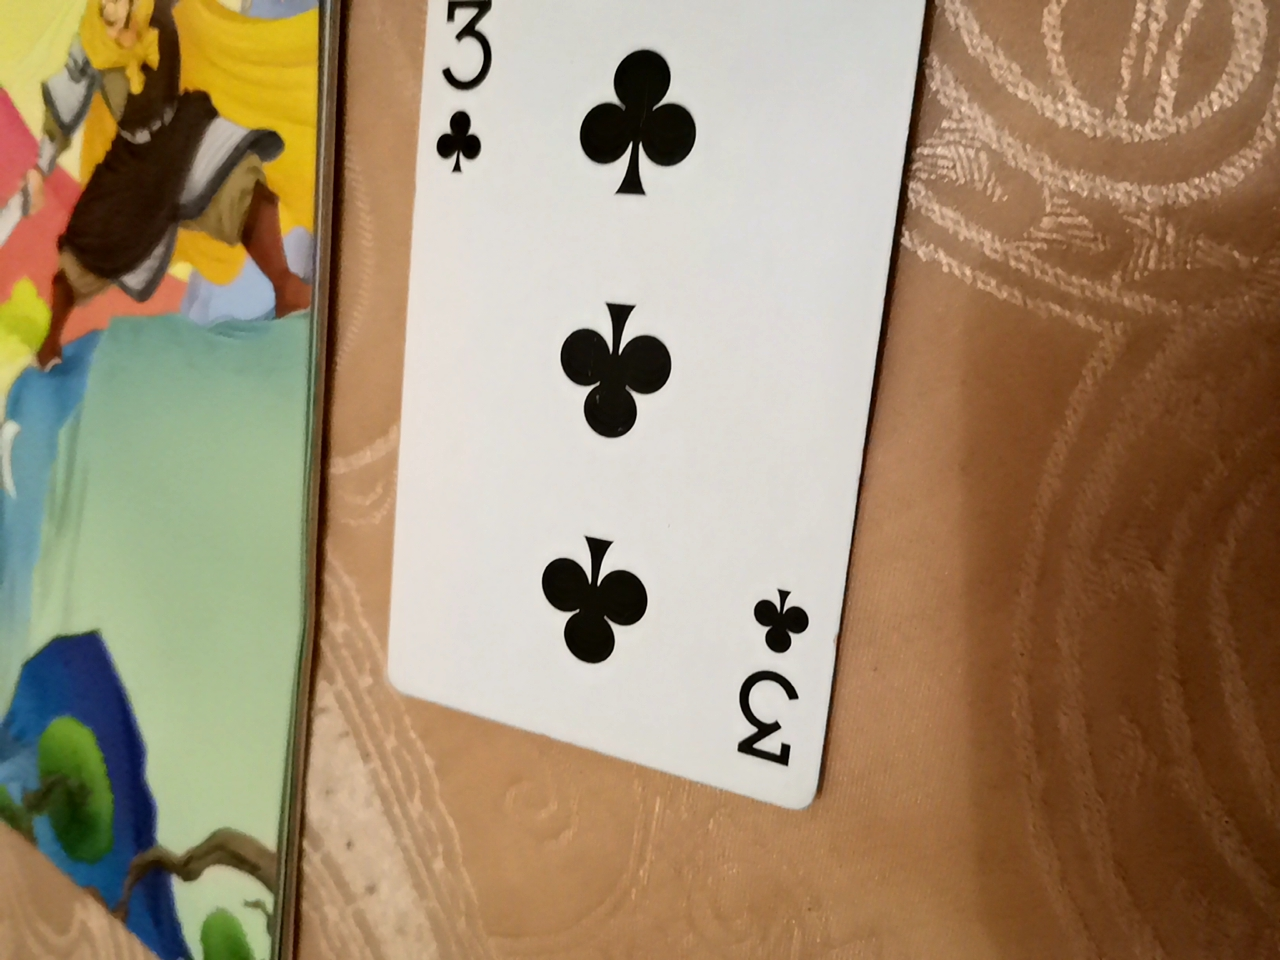mh 3: (381, 3, 948, 809)
